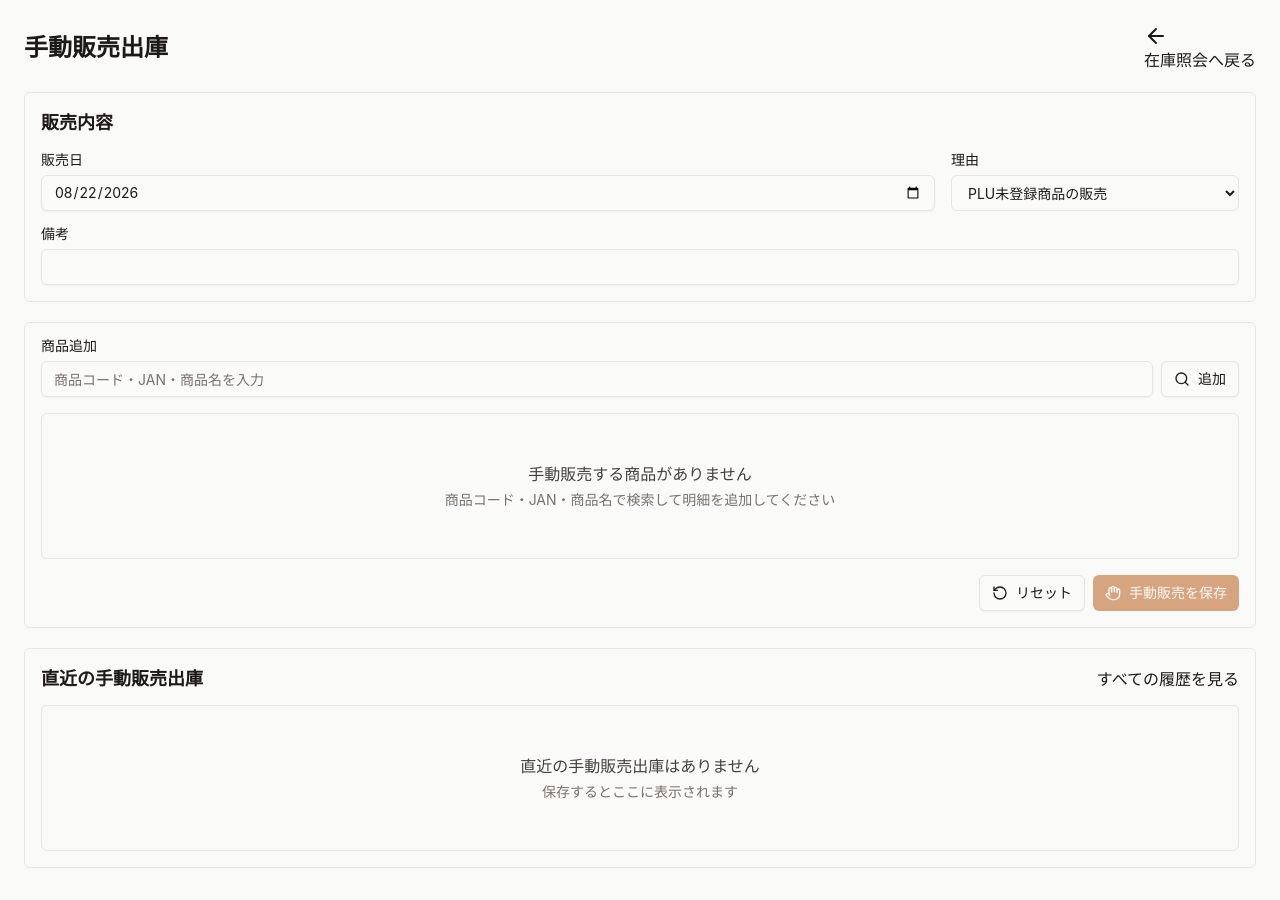
Test: ManualSalePage ProductAddSuggest (UI-04-D16) › W8: activeなしEnterは既存commit検索を実行する
Type "MS-E1" into the dropdown named "手動販売商品検索" at (597, 379), box [41,361,1153,397]
Then press Enter
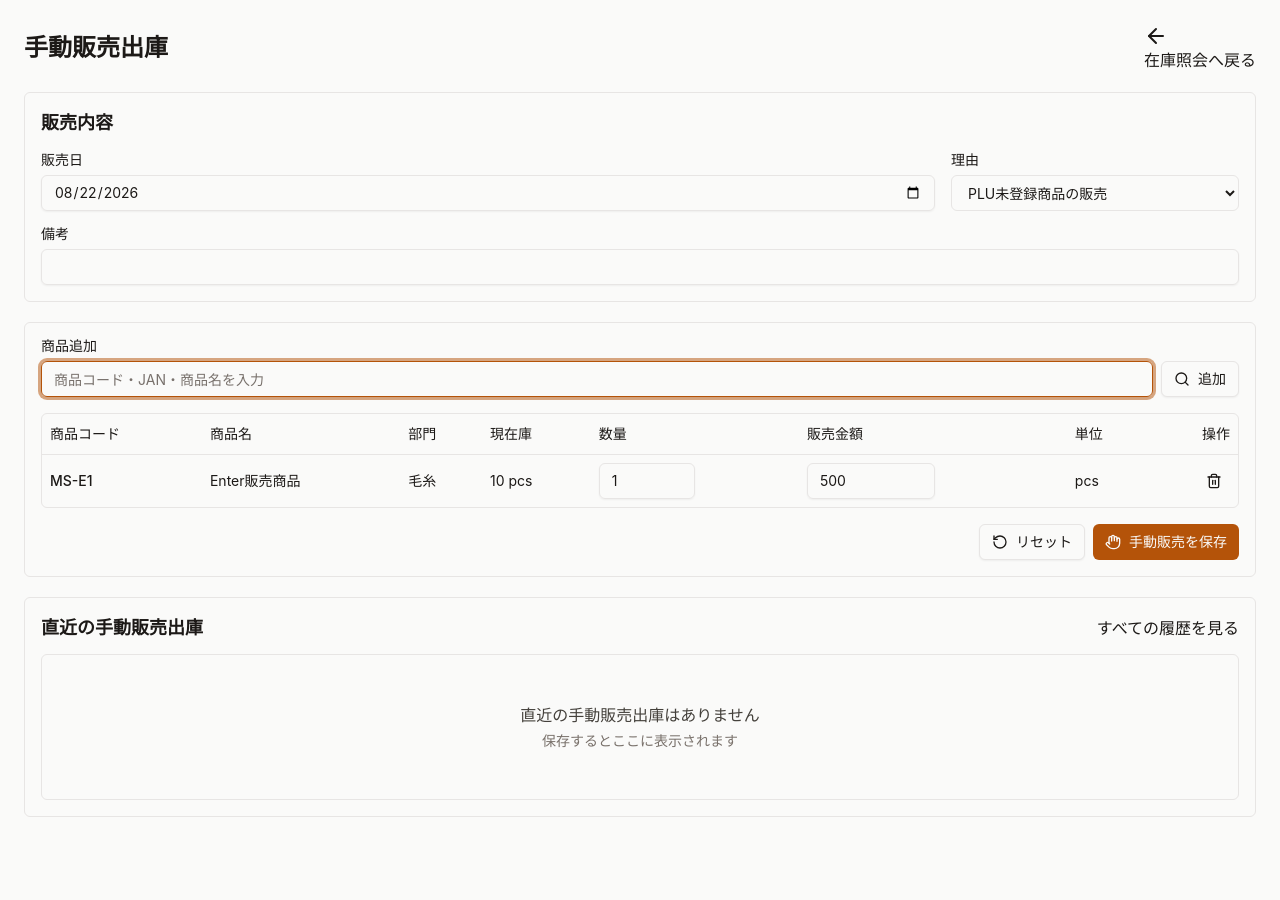
Check: the text "Enter販売商品" is shown, box [202,454,400,506]
